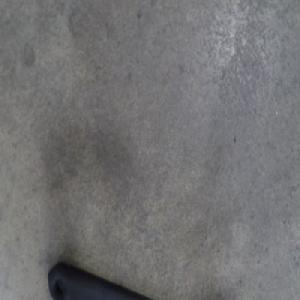AdjustableWrench: (49, 260, 153, 299)
